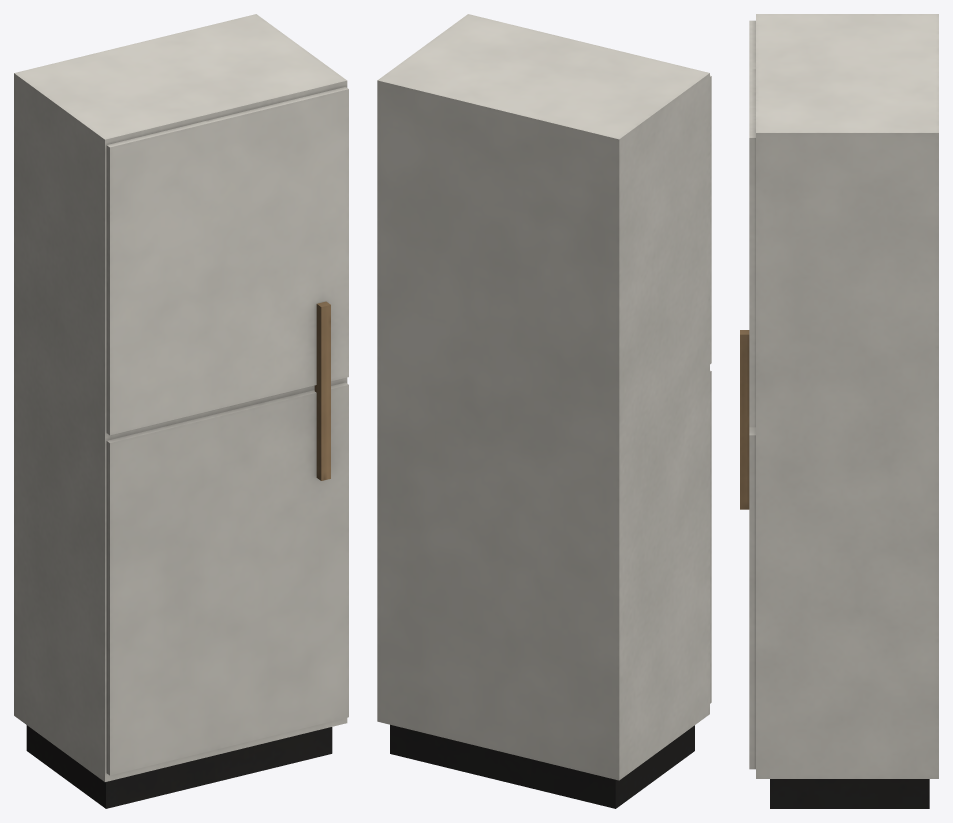
File: H_TallCabinet.fbx
3 views of the same model, side by side, from view 1: azimuth 30°, elevation 25°; view 2: azimuth 150°, elevation 25°; view 3: azimuth 270°, elevation 25° (orthographic).
Visible parts, largest first — view 1: H_TallCabinet; view 2: H_TallCabinet; view 3: H_TallCabinet.
Boxes of the visible parts, x1=… form: H_TallCabinet: x1=14, y1=14, x2=348, y2=808; H_TallCabinet: x1=377, y1=14, x2=711, y2=808; H_TallCabinet: x1=740, y1=14, x2=938, y2=808.
Bounding box in the file's own units: 300 × 800 × 212.
Materials: 1 (1 with a texture image).
